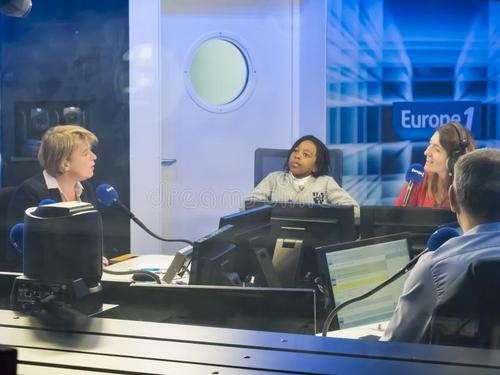face: (422, 130, 452, 174), (287, 139, 316, 173), (70, 142, 96, 179)
specialarea: (82, 149, 95, 156), (296, 150, 307, 156), (428, 146, 438, 152)
